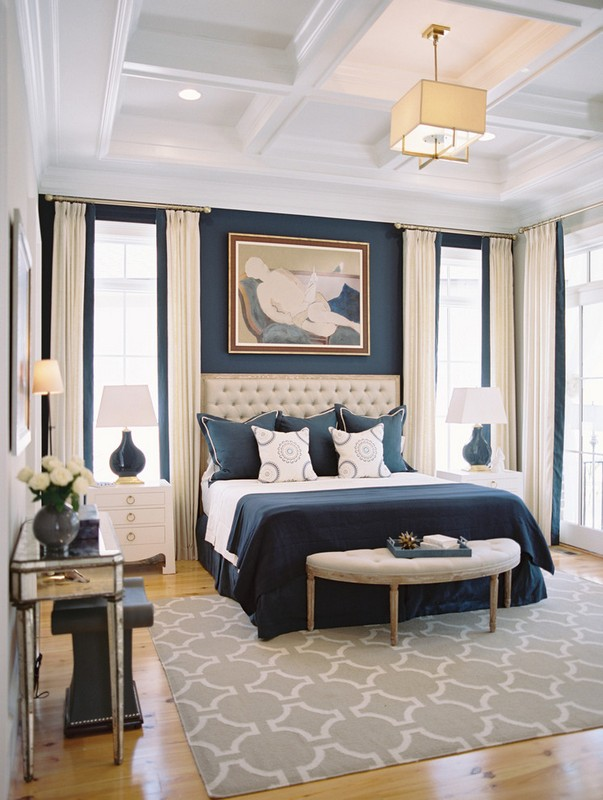bed: (196, 370, 557, 645)
lamp: (96, 380, 163, 488), (446, 383, 509, 471)
stool: (11, 504, 136, 780)
